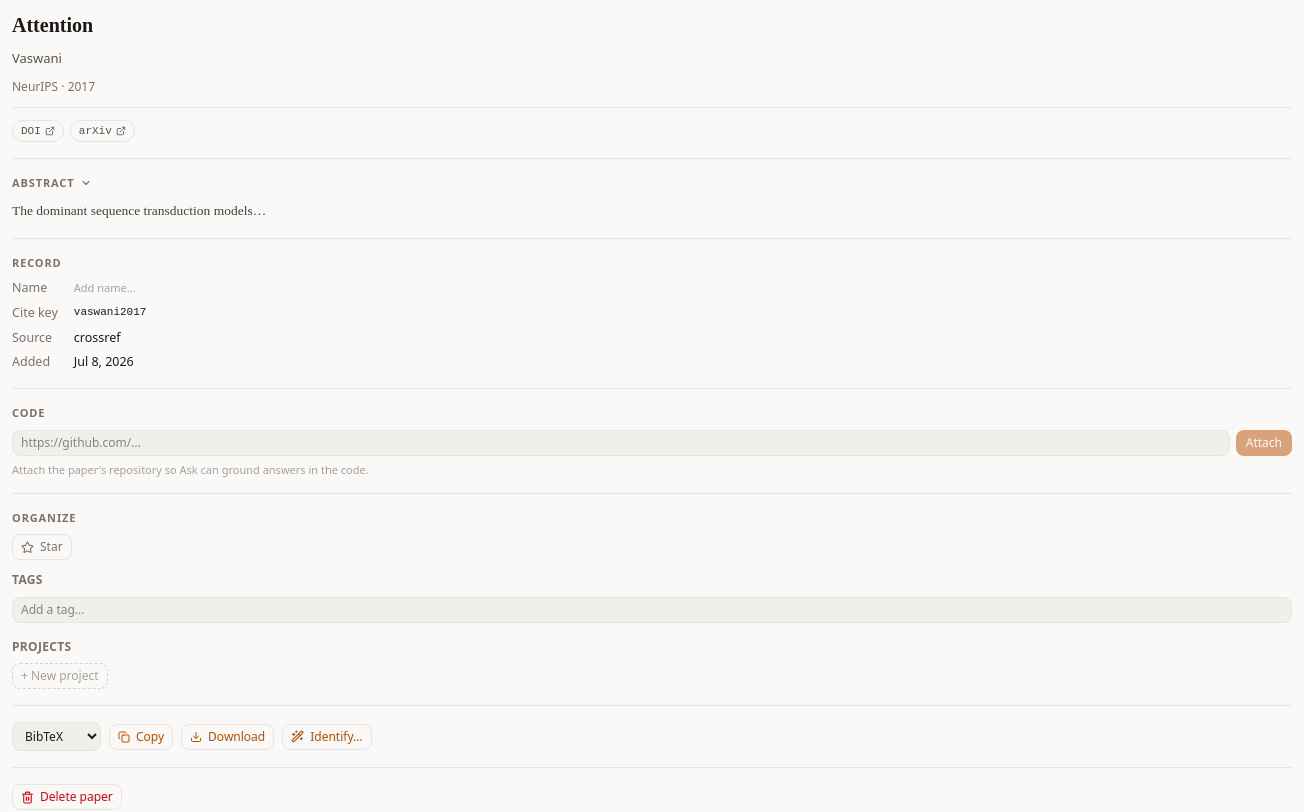
DockDetails › collapses the abstract
Expected: the heading "Attention" is shown, [12,14,93,36]
Click the button "Abstract" at (52, 183), box [12,175,92,192]
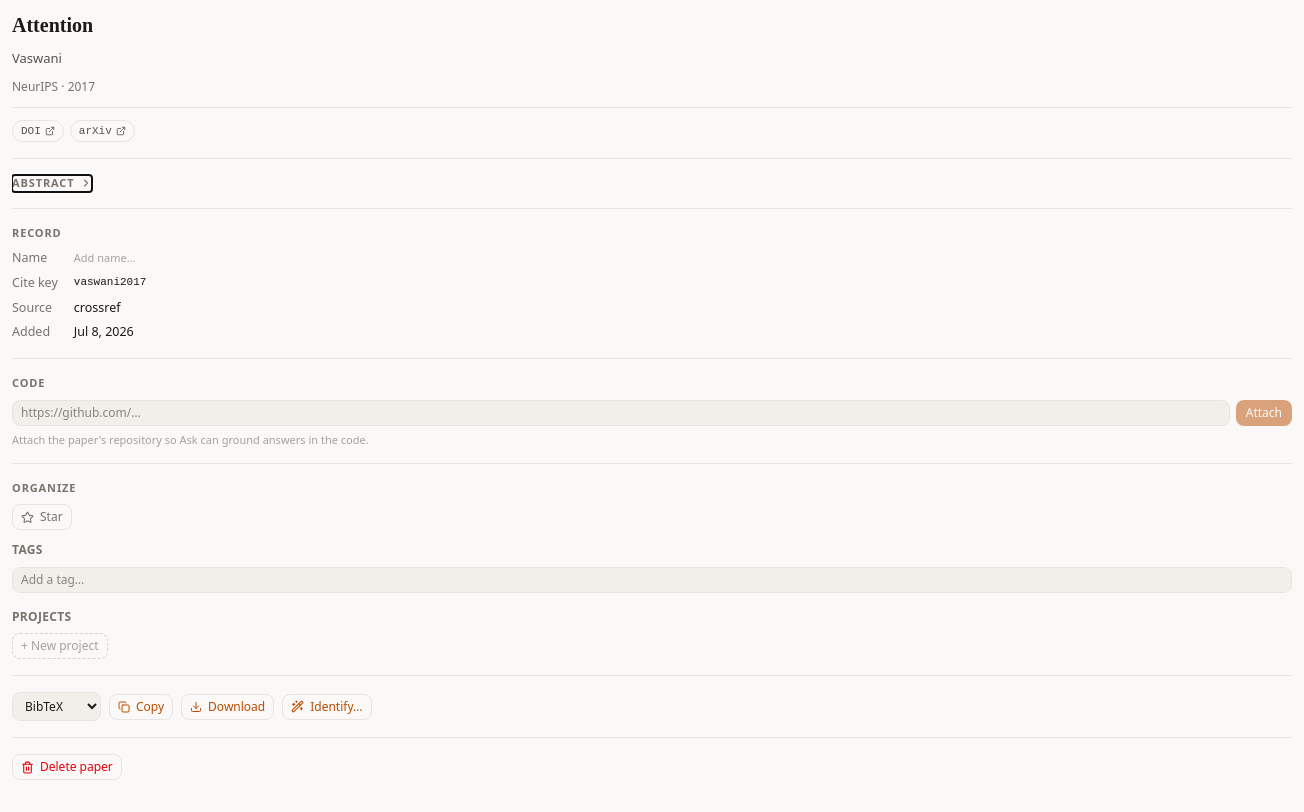
Expected: the text "dominant sequence transduction" is gone
